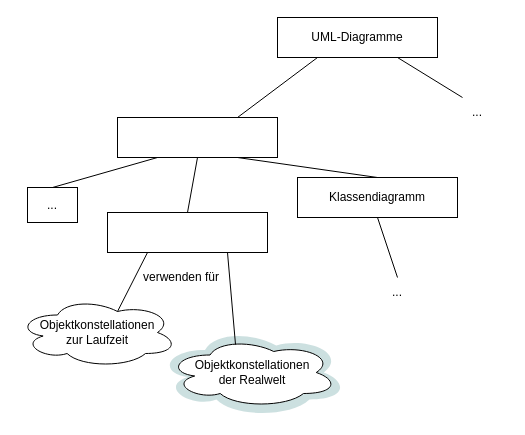
Some shapes in this 525 by 435 pixel diagram are drawn without their labels. Each missing label, with the centre of its shape:
"Objektdiagramm" belongs at pixel 187 232.
"Strukturdiagramme" belongs at pixel 197 137.
